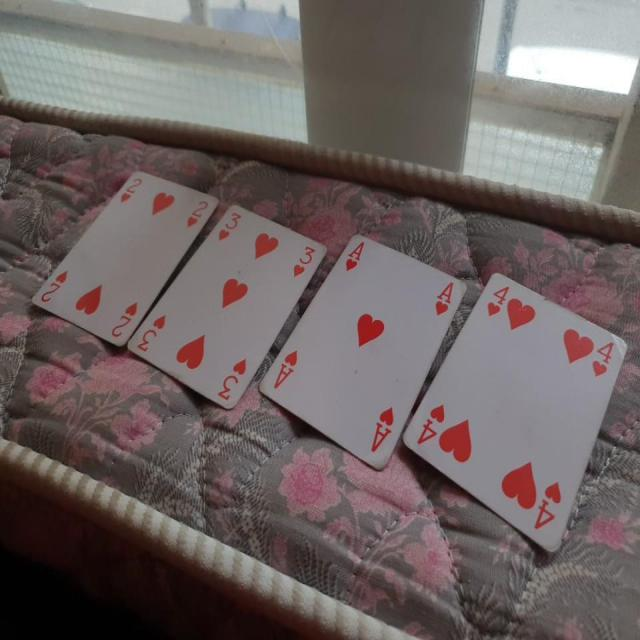2 Hearts: (24, 162, 222, 356)
3 Hearts: (126, 202, 327, 420)
4 Hearts: (403, 266, 630, 564)
A Hearts: (262, 225, 467, 470)
